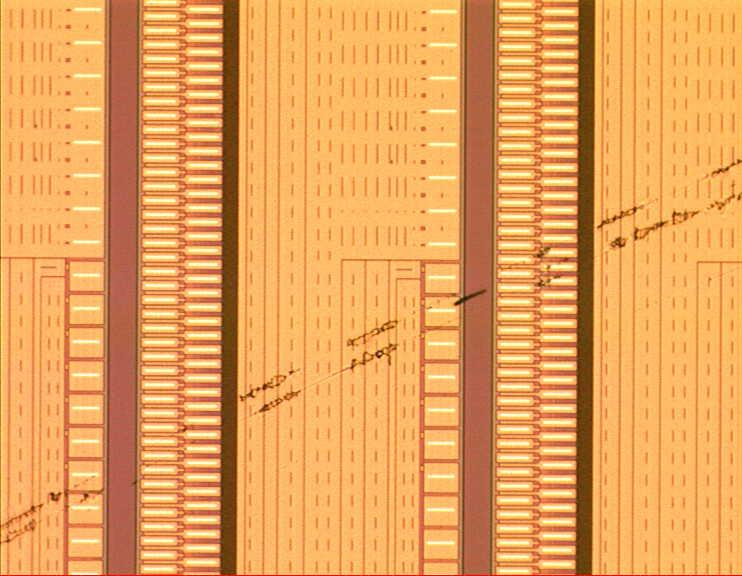SCRATCH: (1, 148, 742, 551)
